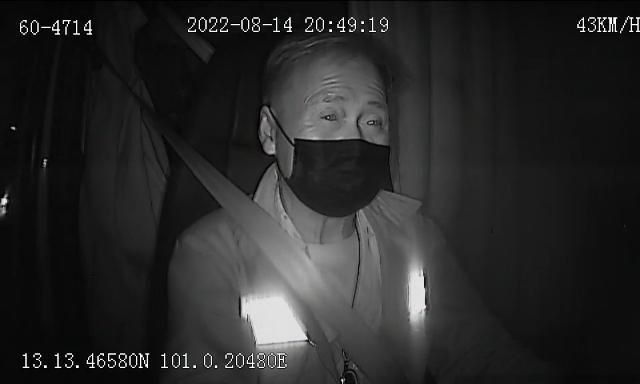SafeDriving: (356, 106, 392, 134), (313, 104, 345, 126)
Seatbelt: (168, 140, 384, 384)
